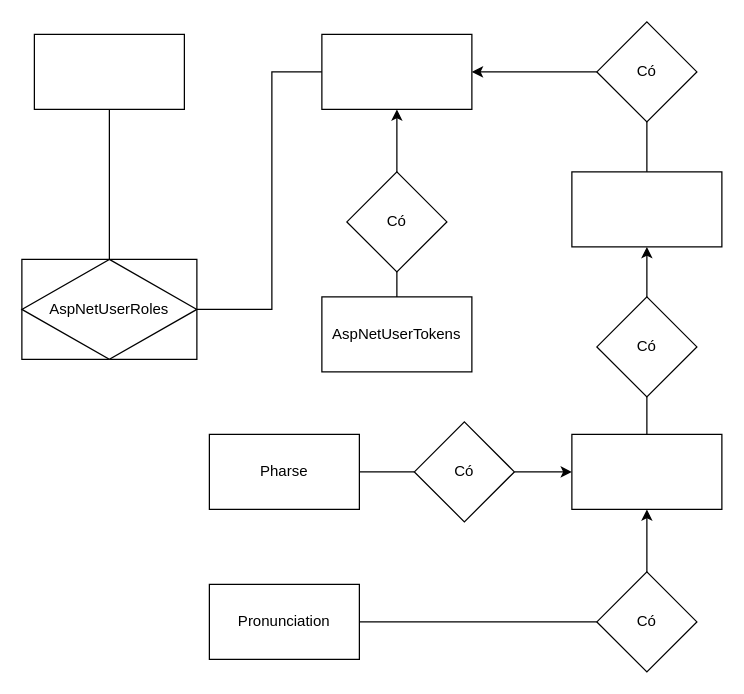
Some shapes in this 744 by 694 pixel diagram are drawn without their labels. Each missing label, with the centre of its shape:
"AspNetRoles" belongs at (108,71).
"AspNetUsers" belongs at (396,71).
"Vocabulary" belongs at (646,471).
"VocabularyCategory" belongs at (646,209).
